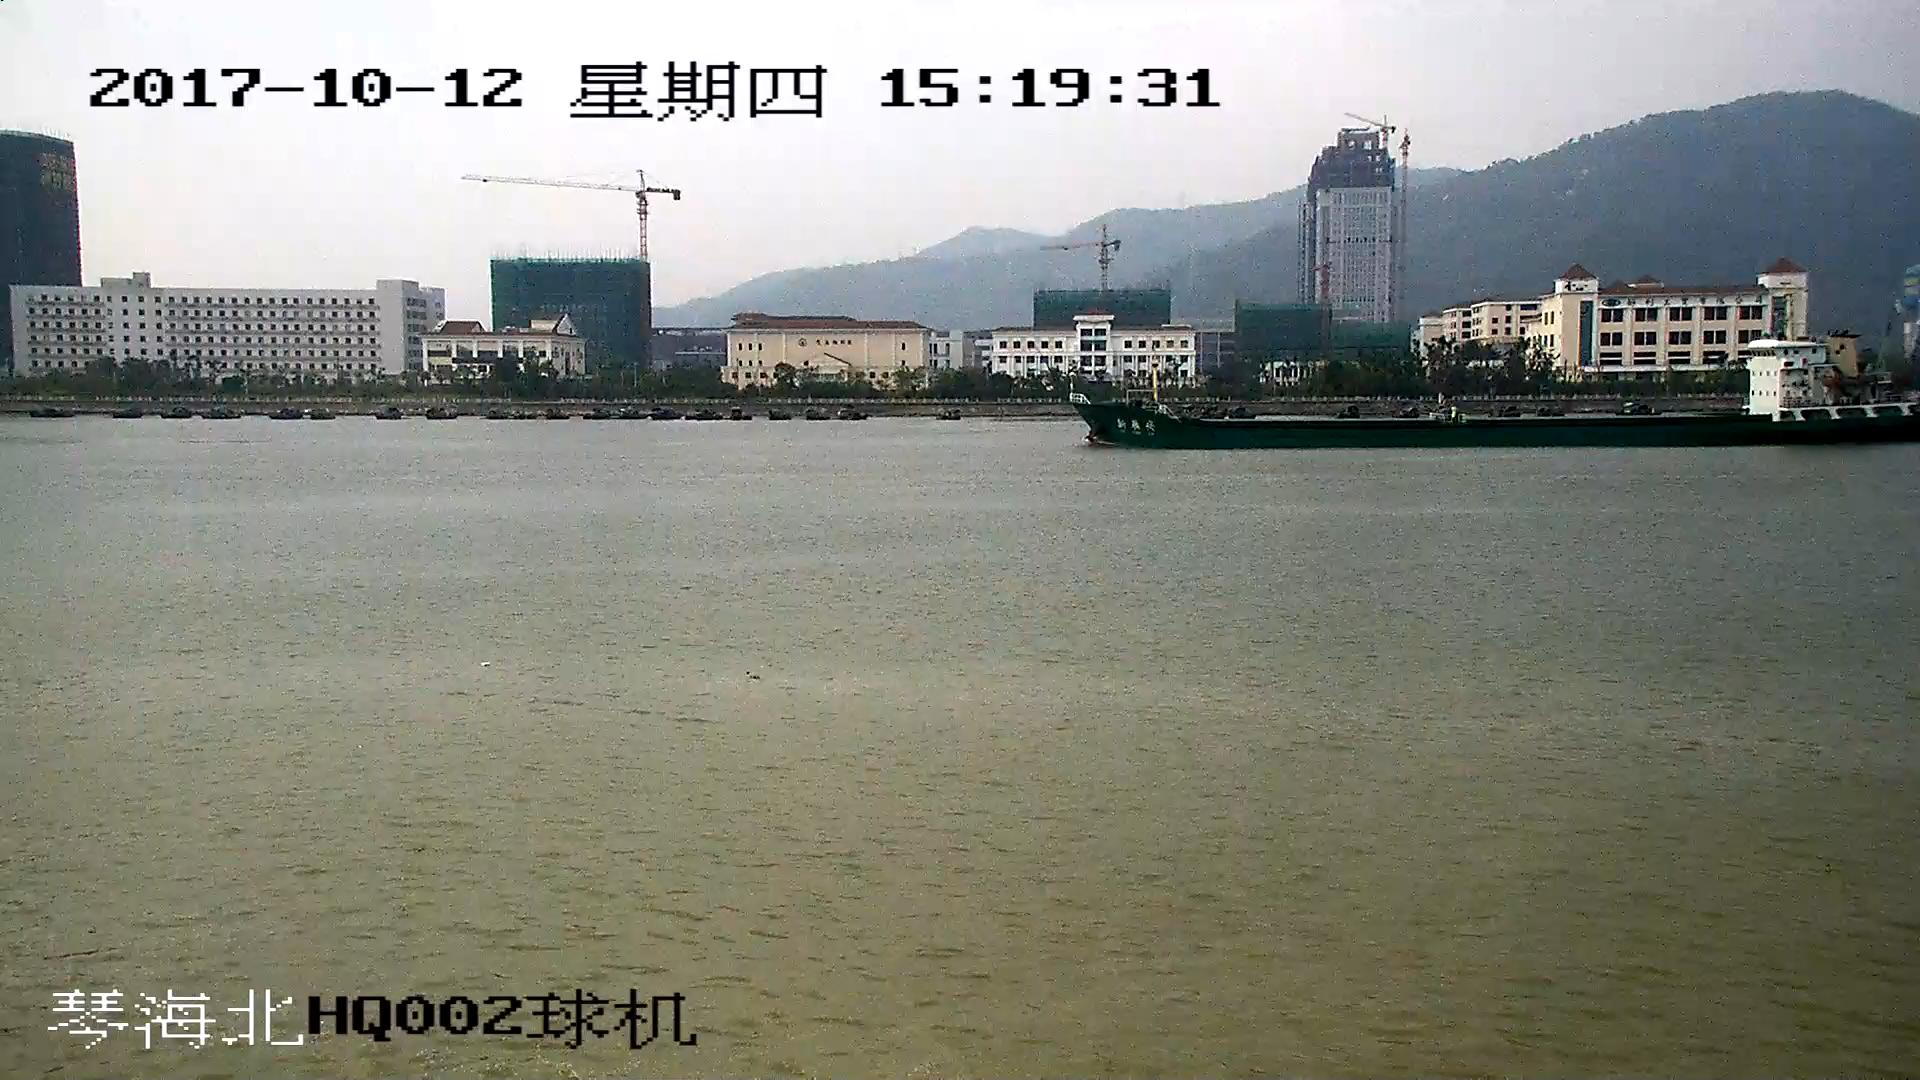general cargo ship: (1072, 339, 1920, 445)
